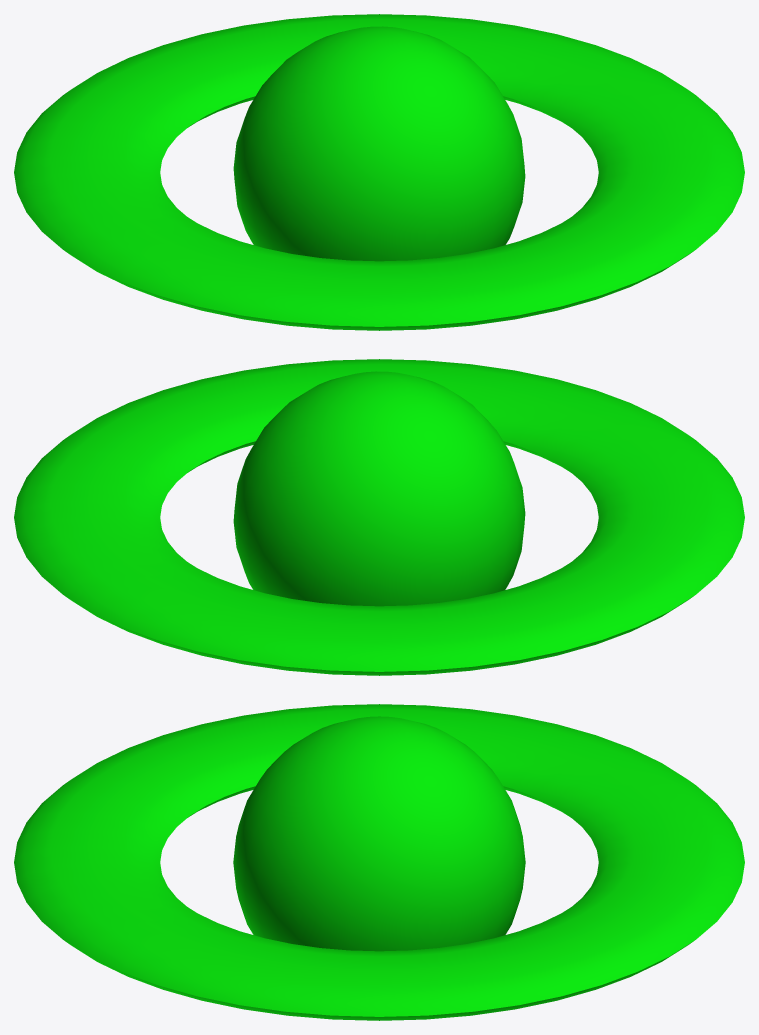
File: Planet2.fbx
3 renders of one model, top to bottom at view 1: azimuth 30°, elevation 25°; view 2: azimuth 150°, elevation 25°; view 3: azimuth 270°, elevation 25°, orthographic.
Parts seen in each view (by area): view 1: Planet; view 2: Planet; view 3: Planet.
Part boxes in pixels (x1,y1,x2,y2): Planet: [14, 14, 744, 330]; Planet: [14, 359, 744, 675]; Planet: [14, 704, 744, 1020].
Bounding box in the file's own units: 500 × 200 × 500.
